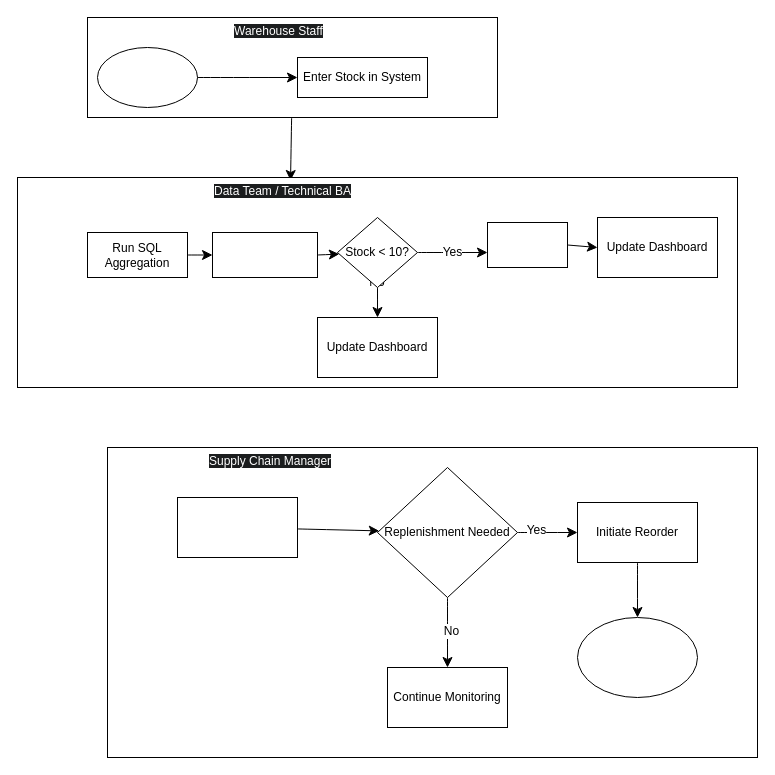
Some shapes in this 775 by 775 pixel diagram are drawn without their labels. Each missing label, with the box of its shape:
END: (576, 616, 698, 698)
Flag Low: (486, 222, 568, 268)
Review Dashboard: (176, 496, 298, 558)
Stock Arrives: (96, 46, 198, 108)
Validate Data: (212, 232, 318, 278)
